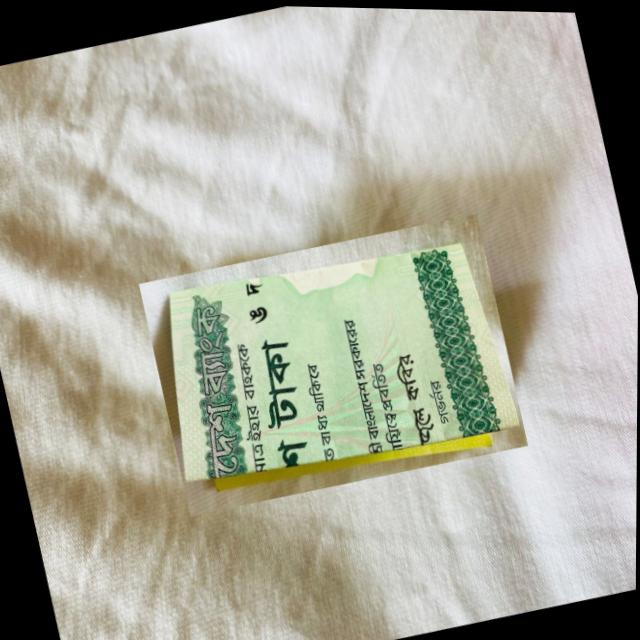Taka: (138, 205, 529, 521)
